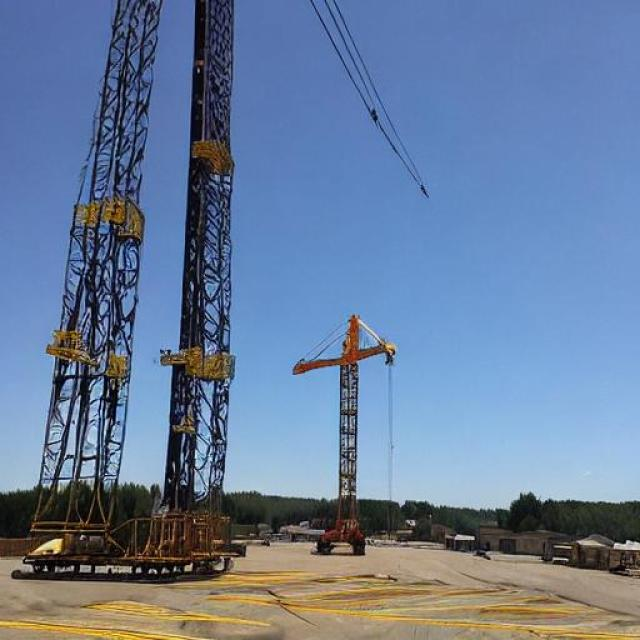crane: (112, 58, 504, 596), (513, 307, 639, 478)
